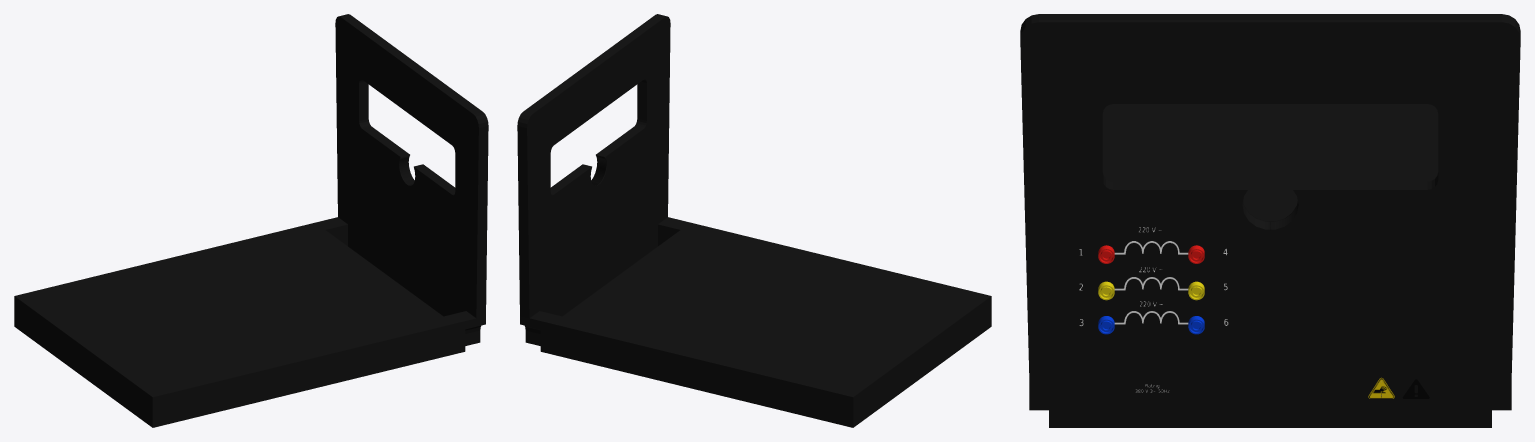
The model's file is MotorBoard.fbx.
3 renders of one model, left to right at view 1: azimuth 30°, elevation 25°; view 2: azimuth 150°, elevation 25°; view 3: azimuth 270°, elevation 25°, orthographic. The views are drawn at different scales.
Visible parts, largest first — view 1: motor board; view 2: motor board; view 3: motor board.
Part boxes in pixels (x1,y1,x2,y2): motor board: [14, 14, 488, 427]; motor board: [517, 14, 991, 427]; motor board: [1020, 14, 1520, 427].
Bounding box in the file's own units: 2676 × 1763 × 1970.
Materials: 5 (1 with a texture image).
